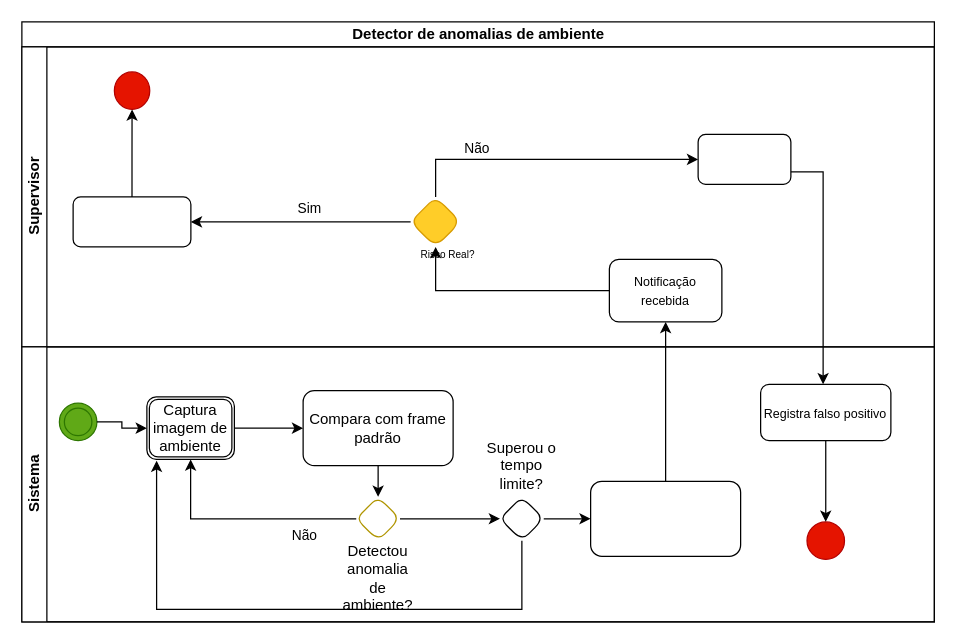
The diagram is 956 pixels wide and 644 high, and some of its shapes have lost their labels. The shapes that lost their labels are listed below. From the top down, each one's centre as x and y in pixels, then its label:
the point at 744,158: Descarta o alerta
the point at 131,221: Atende a ocorrência
the point at 665,518: Envia notificação de alerta
